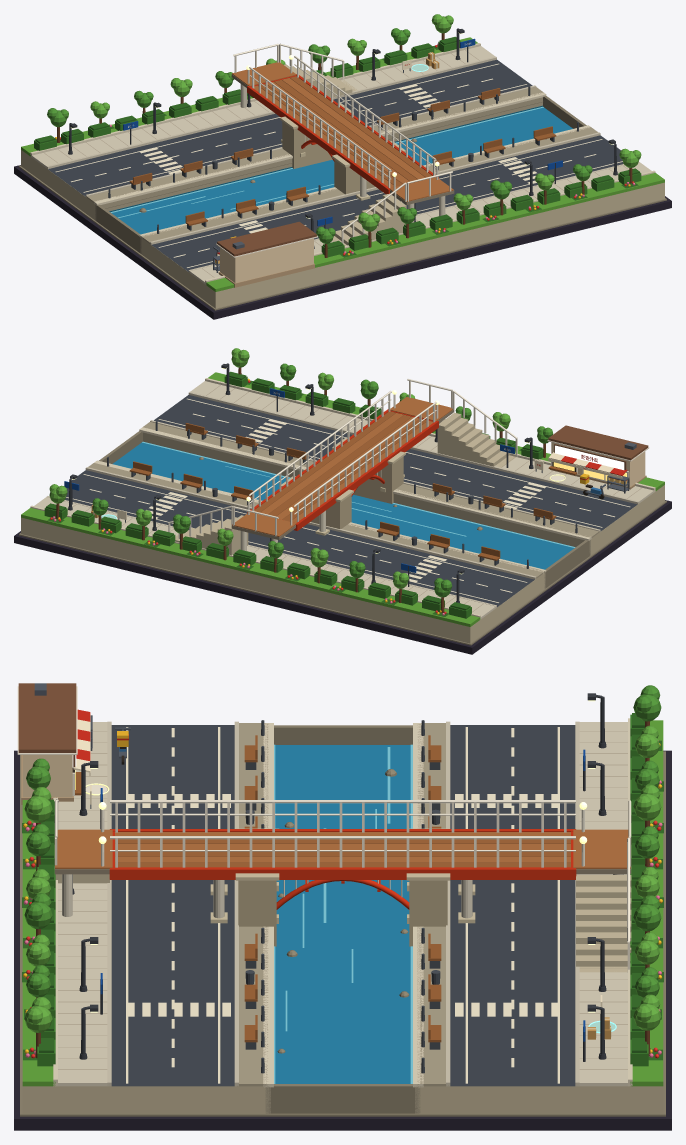
The model's file is env_river_bridge.glb.
3 views of the same model, one above another, from view 1: azimuth 30°, elevation 25°; view 2: azimuth 150°, elevation 25°; view 3: azimuth 270°, elevation 25° (orthographic). The views are drawn at different scales.
Parts seen in each view (by area): view 1: Road_SurfaceN, Road_SurfaceS, River_Water, Base_LandS, Base_Plinth, Walk_SidewalkN, Walk_BeltS, Bank_WallN, Walk_PromenadeN, Walk_PromenadeS, Shop_Body, Bank_CopingN (+29 smaller); view 2: Road_SurfaceS, Road_SurfaceN, River_Water, Base_LandN, Base_Plinth, Walk_SidewalkS, Walk_BeltN, Bank_WallS, Walk_PromenadeS, Walk_SidewalkN, Walk_PromenadeN, Bank_CopingS (+28 smaller); view 3: River_Water, Road_SurfaceN, Road_SurfaceS, Base_Plinth, Walk_SidewalkS, Walk_SidewalkN, Base_LandN, Base_LandS, Deck_EdgeBeam1, Walk_PromenadeS, Walk_PromenadeN, Base_PlinthRim (+35 smaller).
Part boxes in pixels (left/top/right/bottom): Road_SurfaceN: left=48, top=59, right=532, bottom=196; Road_SurfaceS: left=152, top=135, right=623, bottom=271; River_Water: left=111, top=107, right=572, bottom=234; Base_LandS: left=141, top=182, right=664, bottom=308; Base_Plinth: left=14, top=165, right=671, bottom=319; Walk_SidewalkN: left=31, top=46, right=495, bottom=168; Walk_BeltS: left=206, top=173, right=664, bottom=291; Bank_WallN: left=95, top=97, right=542, bottom=220; Walk_PromenadeN: left=87, top=87, right=543, bottom=203; Walk_PromenadeS: left=141, top=127, right=597, bottom=243; Shop_Body: left=220, top=238, right=313, bottom=283; Bank_CopingN: left=94, top=92, right=546, bottom=205; Road_SurfaceS: left=154, top=395, right=637, bottom=531; Road_SurfaceN: left=65, top=470, right=534, bottom=607; River_Water: left=112, top=442, right=574, bottom=569; Base_LandN: left=21, top=517, right=544, bottom=643; Base_Plinth: left=14, top=500, right=671, bottom=654; Walk_SidewalkS: left=190, top=381, right=653, bottom=503; Walk_BeltN: left=21, top=508, right=480, bottom=626; Bank_WallS: left=143, top=432, right=590, bottom=555; Walk_PromenadeS: left=143, top=422, right=599, bottom=537; Walk_SidewalkN: left=34, top=497, right=496, bottom=618; Walk_PromenadeN: left=88, top=463, right=544, bottom=578; Bank_CopingS: left=139, top=427, right=591, bottom=540; River_Water: left=275, top=745, right=410, bottom=1083; Road_SurfaceN: left=450, top=725, right=575, bottom=1086; Road_SurfaceS: left=111, top=725, right=234, bottom=1086; Base_Plinth: left=14, top=750, right=671, bottom=1130; Walk_SidewalkS: left=56, top=722, right=108, bottom=1086; Walk_SidewalkN: left=577, top=722, right=630, bottom=1086; Base_LandN: left=417, top=1086, right=663, bottom=1113; Base_LandS: left=22, top=1086, right=268, bottom=1113; Deck_EdgeBeam1: left=110, top=867, right=575, bottom=879; Walk_PromenadeS: left=237, top=723, right=268, bottom=1086; Walk_PromenadeN: left=417, top=723, right=448, bottom=1086; Base_PlinthRim: left=20, top=751, right=665, bottom=1116.
Bounding box in the file's own units: 16.32 × 2.65 × 12.32.
